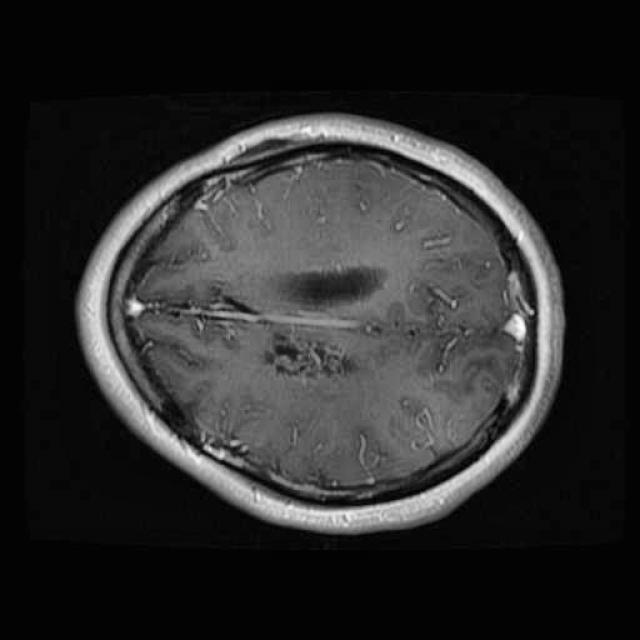Tumor: (252, 320, 374, 404)
